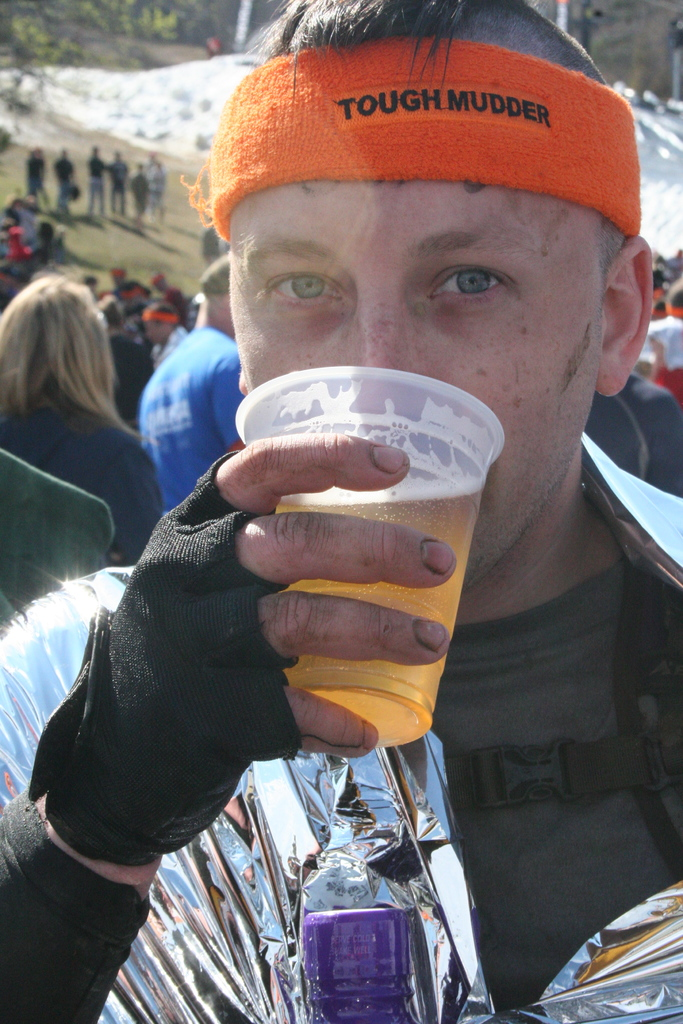Beer: (240, 362, 524, 793)
